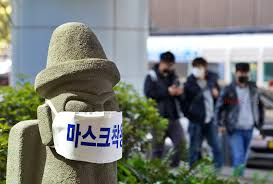Stone Statue: (2, 20, 141, 184)
